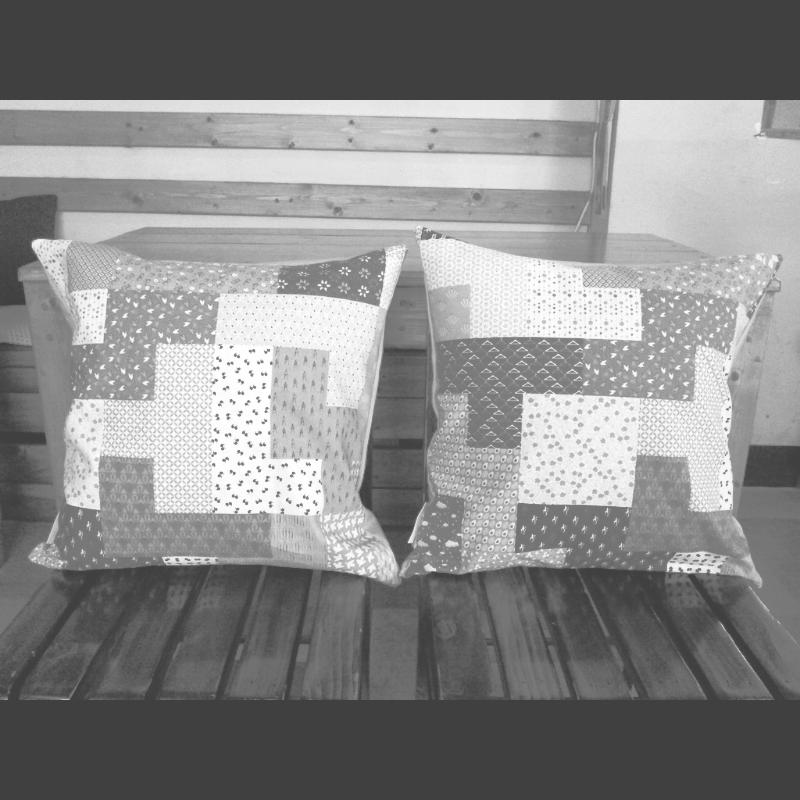pillow: (398, 223, 780, 587), (29, 243, 403, 585)
